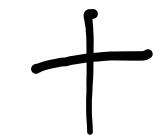plus: (31, 9, 153, 135)
